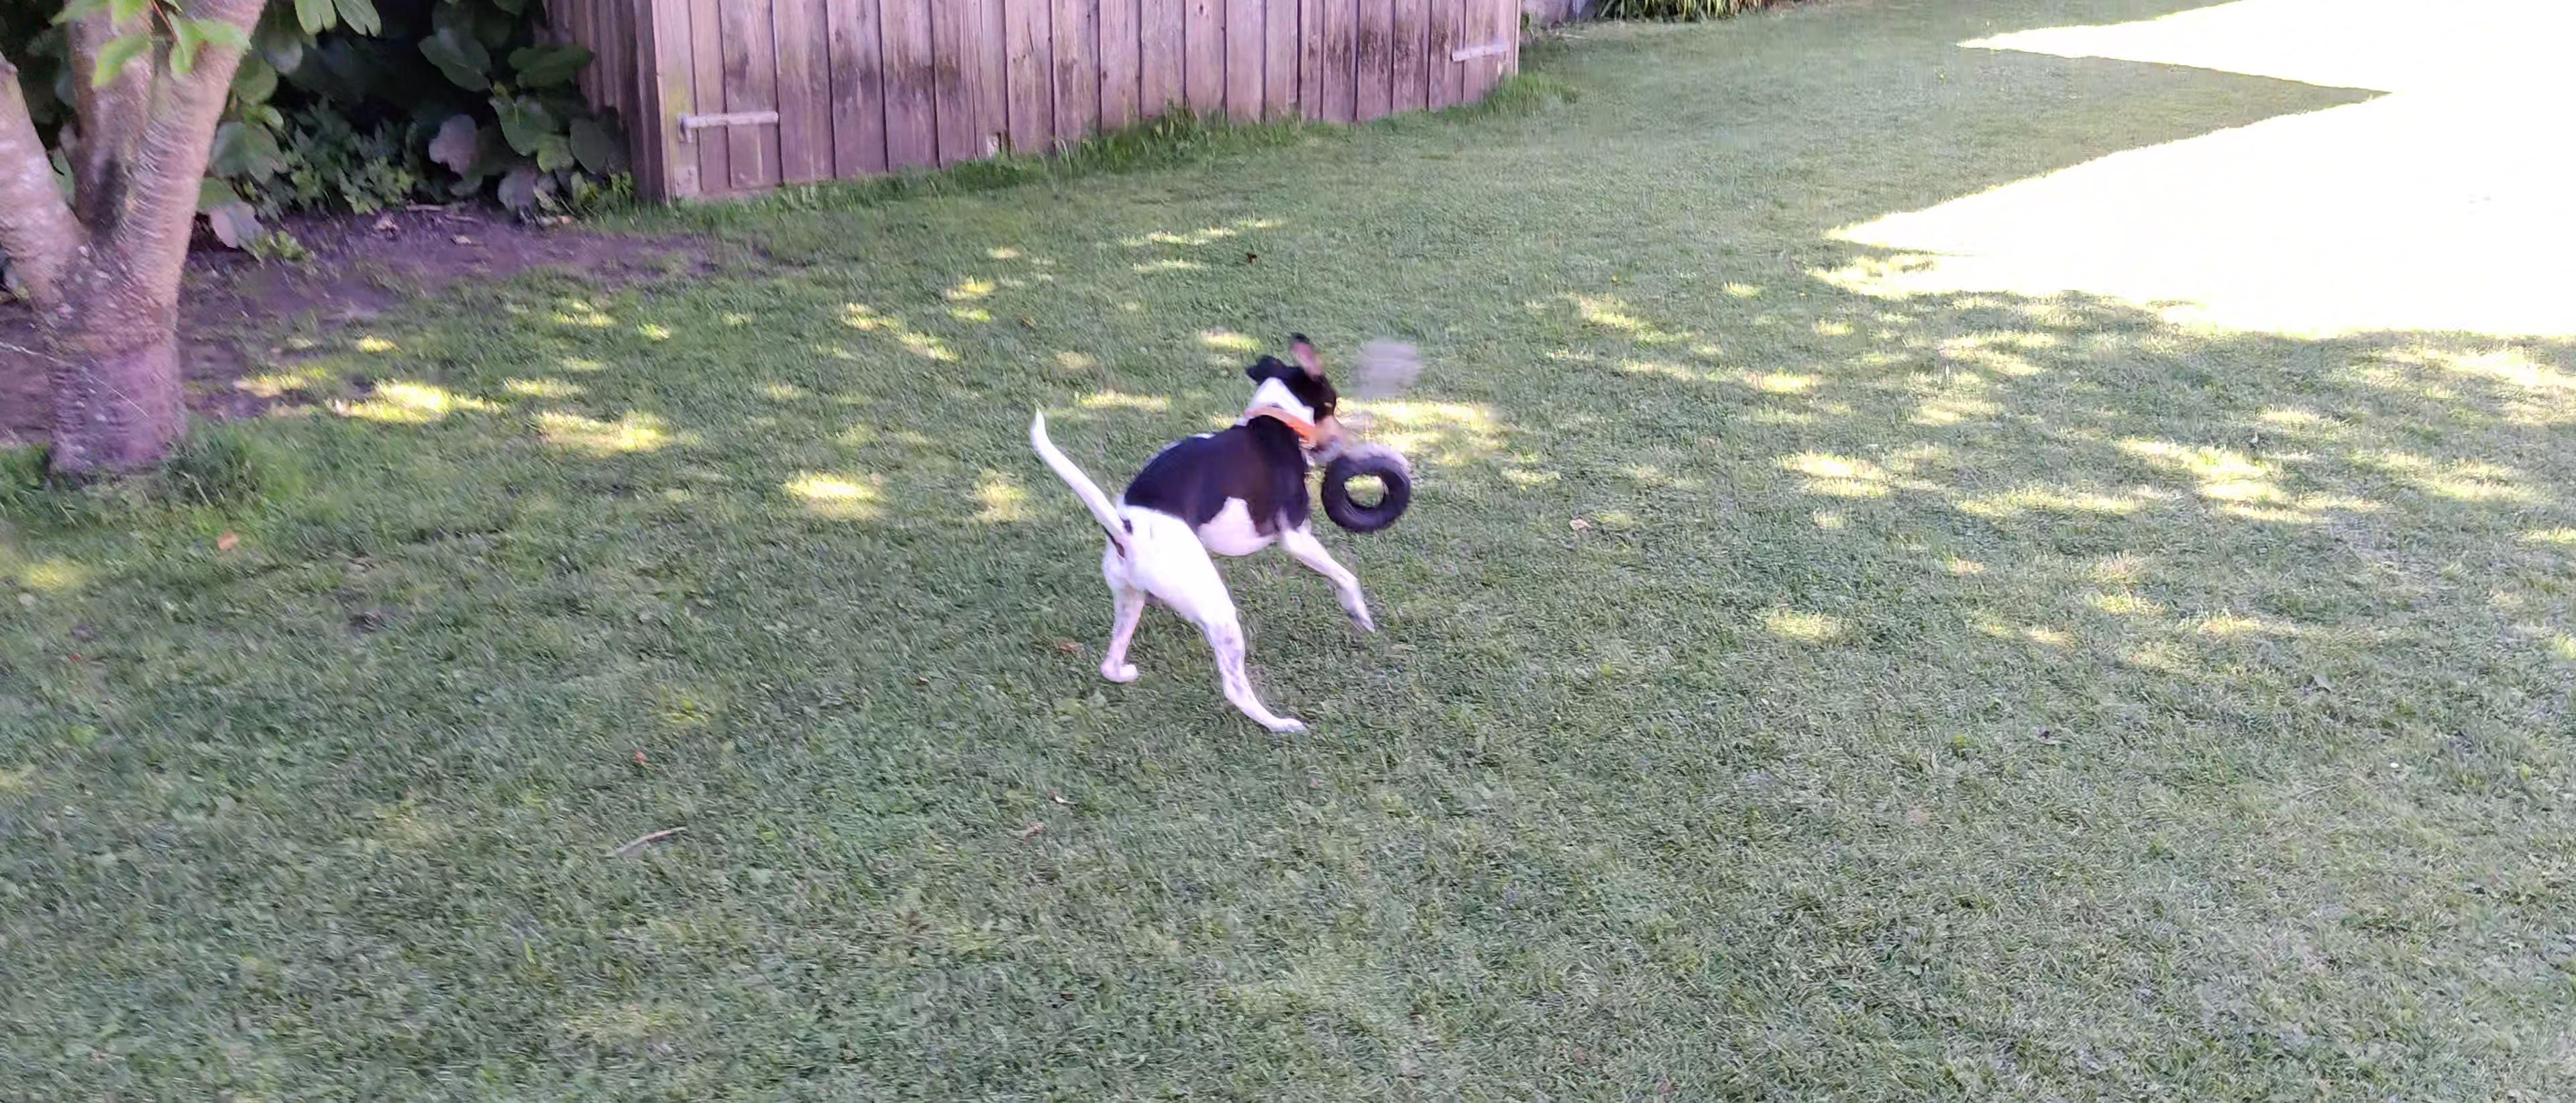Dog: (1022, 329, 1372, 738)
